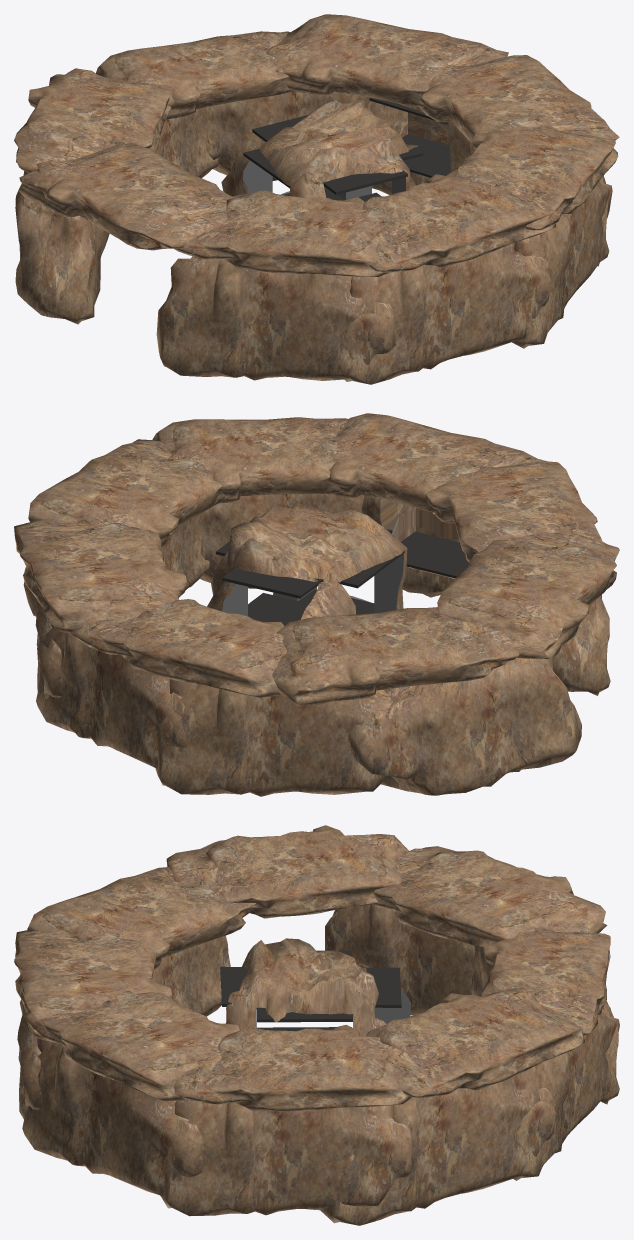
Rendered from cueva.obj.
3 renders of one model, top to bottom at view 1: azimuth 30°, elevation 25°; view 2: azimuth 150°, elevation 25°; view 3: azimuth 270°, elevation 25°, orthographic. The views are drawn at different scales.
Parts seen in each view (by area): view 1: rocas34:Rock_9group19, polySurface20; view 2: rocas34:Rock_9group19, polySurface20; view 3: rocas34:Rock_9group19, polySurface20.
Boxes of the visible parts, x1,y1,x2,y2 form: rocas34:Rock_9group19: (14, 14, 619, 384); polySurface20: (221, 98, 423, 201); rocas34:Rock_9group19: (14, 413, 619, 796); polySurface20: (207, 502, 407, 625); rocas34:Rock_9group19: (14, 825, 619, 1225); polySurface20: (220, 938, 410, 1036).
Size of the model in its own units: 21.3 by 6.48 by 20.65.
6 materials, 5 textured.
